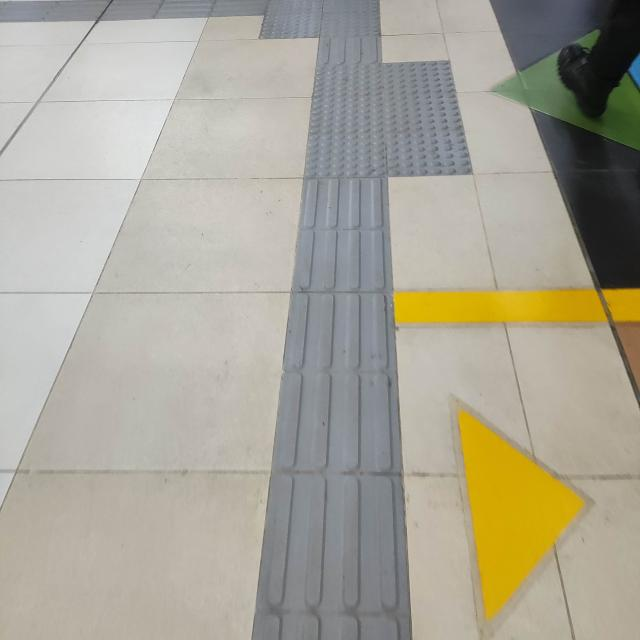lurus: (282, 166, 418, 640)
